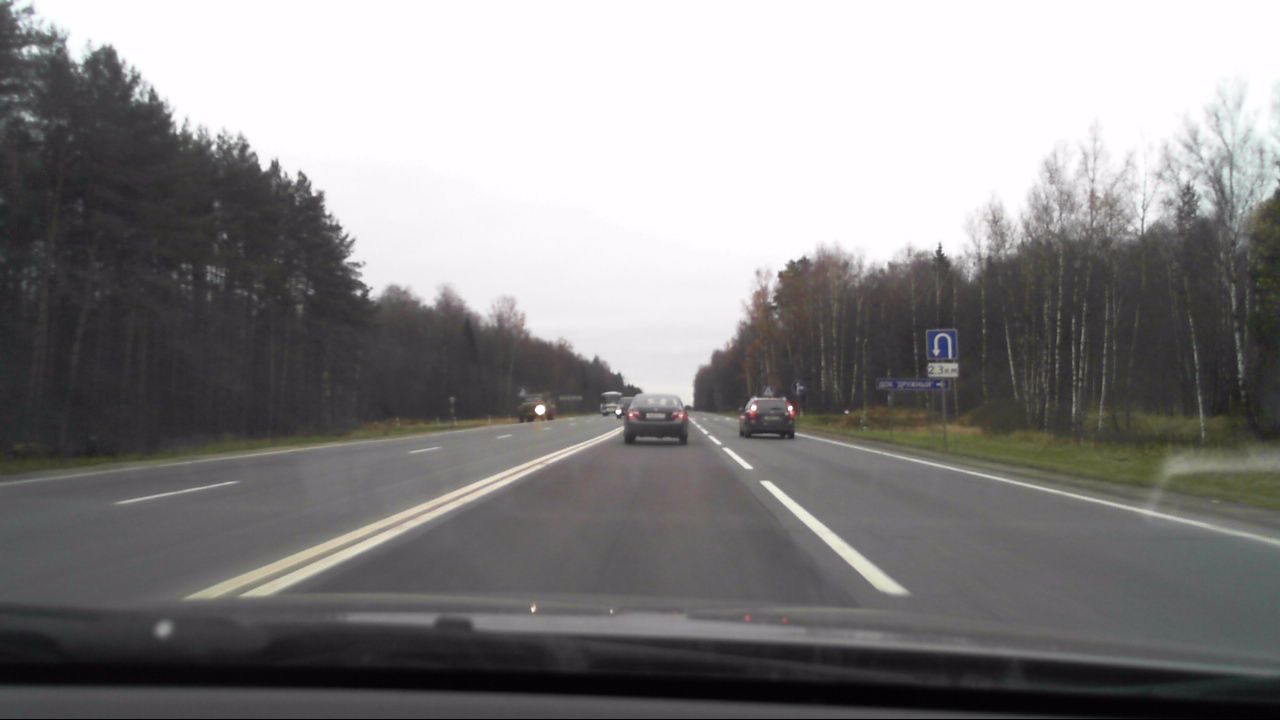U-turn: (927, 331, 957, 360)
